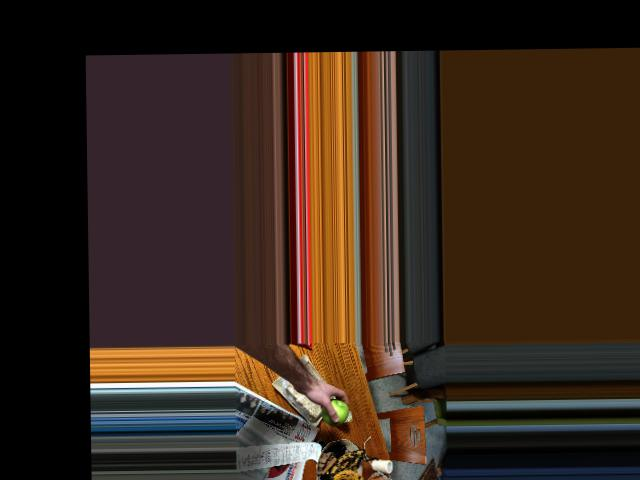apple: (319, 397, 350, 426)
